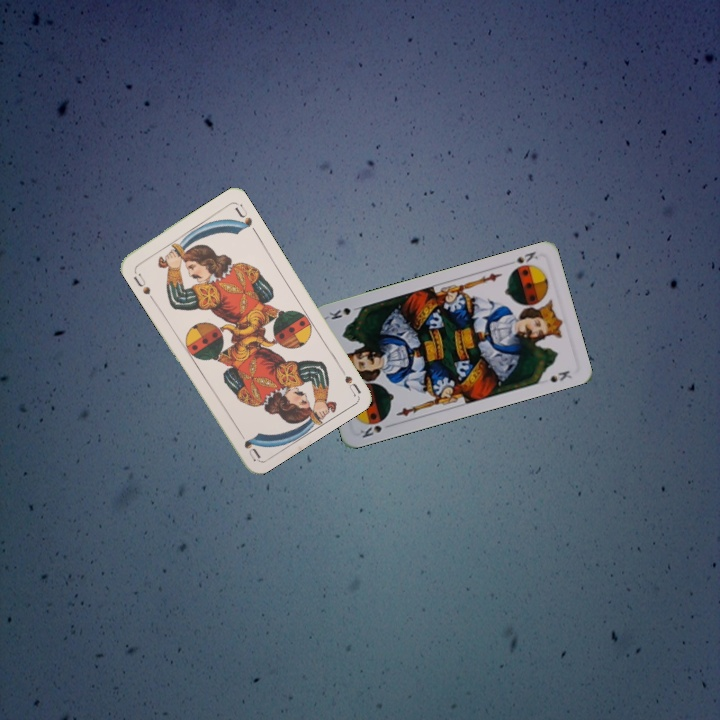SK: (356, 420, 395, 440), (503, 247, 540, 268)
SU: (333, 360, 363, 398), (129, 269, 153, 297)
